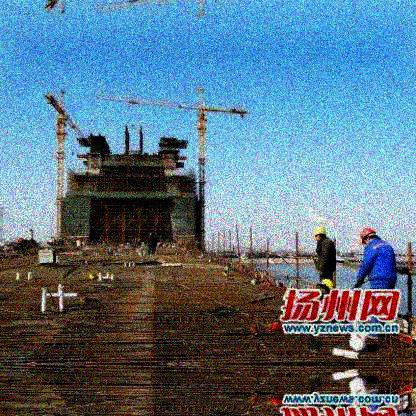helmet: (361, 227, 380, 244), (313, 227, 328, 242)
